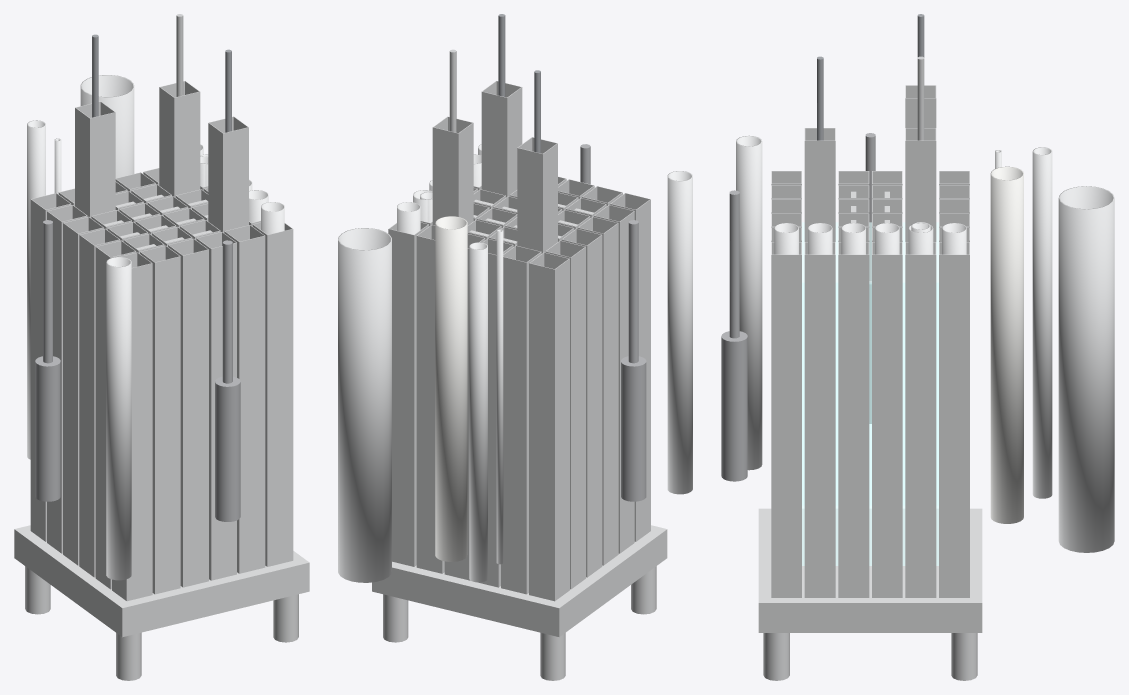
Rendered from pur1_core.glb.
3 renders of one model, left to right at view 1: azimuth 30°, elevation 25°; view 2: azimuth 150°, elevation 25°; view 3: azimuth 270°, elevation 25°, orthographic. The views are drawn at different scales.
Visible parts, largest first — view 1: GridPlate, ReflectorCan_6-2, ReflectorCan_6-3, ReflectorCan_6-6, ReflectorCan_6-5, SourceGuideTube, ReflectorCan_6-1, ReflectorCan_3-1, ReflectorCan_4-1, IonChamber_Safety_UIC, ReflectorCan_6-4, IonChamber_LogN_CIC (+23 smaller); view 2: DropTube_5in_SS, ReflectorCan_1-1, GridPlate, DropTube_3in_PVC, ReflectorCan_1-2, ReflectorCan_1-6, SourceGuideTube, ReflectorCan_1-5, DropTube_1.75in, ReflectorCan_3-1, ReflectorCan_4-1, ReflectorCan_2-1 (+13 smaller); view 3: DropTube_5in_SS, GridPlate, DropTube_3in_PVC, ReflectorCan_2-6, ReflectorCan_4-6, ReflectorCan_5-6, ReflectorCan_1-6, ReflectorCan_3-6, ReflectorCan_6-6, DropTube_1.75in, SourceGuideTube, fx_CherenkovGlow (+8 smaller).
Part boxes in pixels (x1,y1,x2,y2): GridPlate: (14,525,309,680); ReflectorCan_6-2: (140,245,180,594); ReflectorCan_6-3: (168,238,208,587); ReflectorCan_6-6: (252,222,293,566); ReflectorCan_6-5: (224,225,265,573); SourceGuideTube: (106,257,131,580); ReflectorCan_6-1: (112,252,152,601); ReflectorCan_3-1: (63,216,103,565); ReflectorCan_4-1: (79,228,120,577); IonChamber_Safety_UIC: (215,240,240,521); ReflectorCan_6-4: (196,232,236,580); IonChamber_LogN_CIC: (35,220,60,501); DropTube_5in_SS: (338,228,391,582); ReflectorCan_1-1: (529,252,569,601); GridPlate: (372,525,667,680); DropTube_3in_PVC: (435,216,467,561); ReflectorCan_1-2: (501,245,541,594); ReflectorCan_1-6: (388,222,428,566); SourceGuideTube: (667,171,692,494); ReflectorCan_1-5: (416,225,444,573); DropTube_1.75in: (469,242,487,582); ReflectorCan_3-1: (561,228,602,577); ReflectorCan_4-1: (577,217,618,565); ReflectorCan_2-1: (545,240,585,589); DropTube_5in_SS: (1058,186,1114,552); GridPlate: (758,508,982,680); DropTube_3in_PVC: (990,166,1023,523); ReflectorCan_2-6: (905,242,936,597); ReflectorCan_4-6: (838,242,869,597); ReflectorCan_5-6: (804,242,835,597); ReflectorCan_1-6: (939,242,969,597); ReflectorCan_3-6: (872,242,902,597); ReflectorCan_6-6: (771,242,801,597); DropTube_1.75in: (1032,147,1052,498); SourceGuideTube: (736,135,762,470); fx_CherenkovGlow: (802,222,938,565).
Bounding box in the file's own units: 0.5922 × 1.5 × 0.8926.
